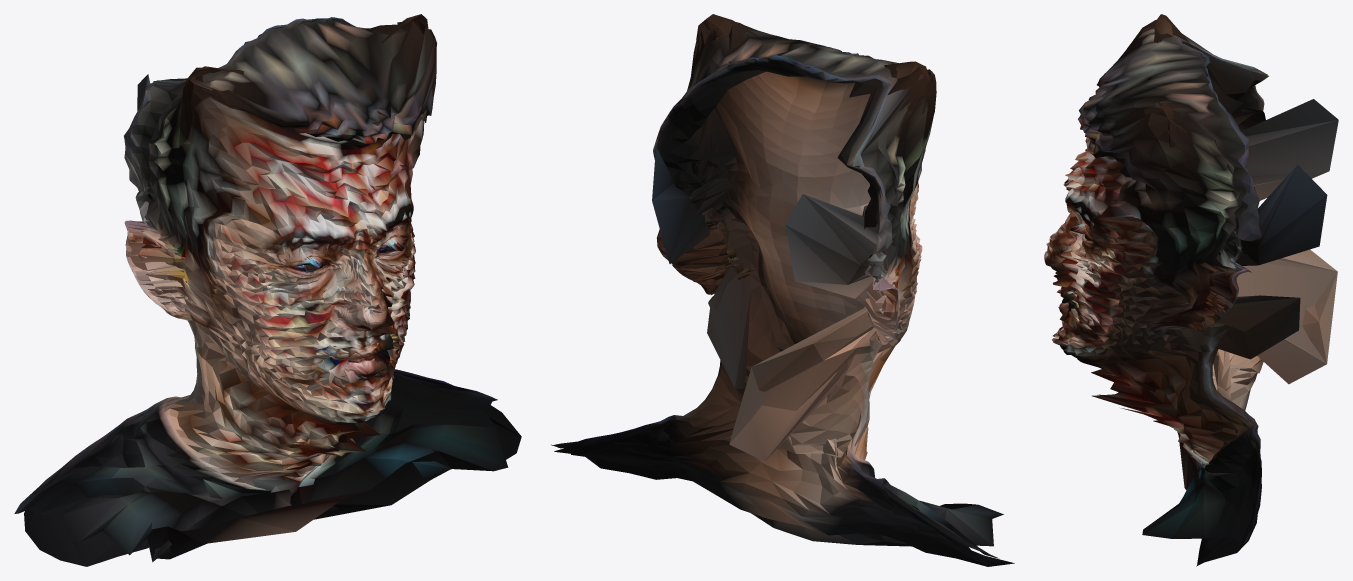
Rendered from asian_m_horns.obj.
3 views of the same model, side by side, from view 1: azimuth 30°, elevation 25°; view 2: azimuth 150°, elevation 25°; view 3: azimuth 270°, elevation 25° (orthographic). The views are drawn at different scales.
Size of the model in its own units: 0.3661 by 0.3676 by 0.2274.
